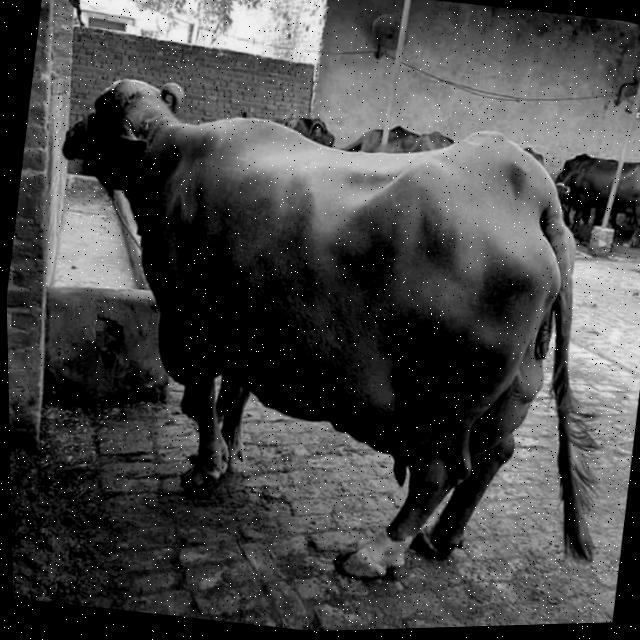Buffalo: (5, 52, 640, 621)
